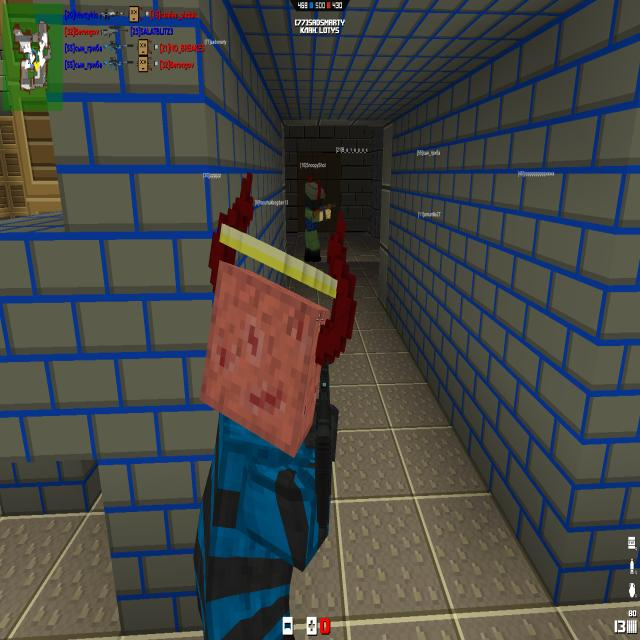player: (198, 178, 351, 636), (306, 174, 335, 265)
